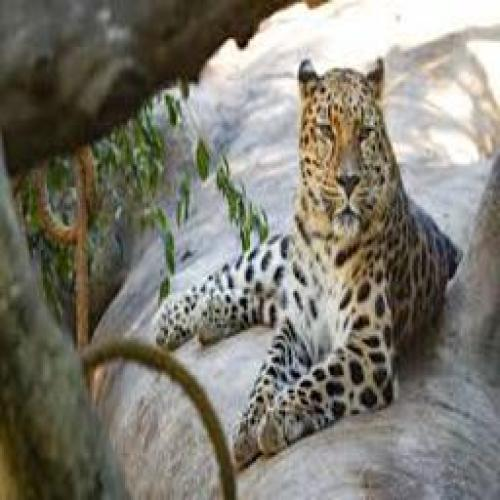amur_leopard-endangered: (151, 54, 463, 459)
